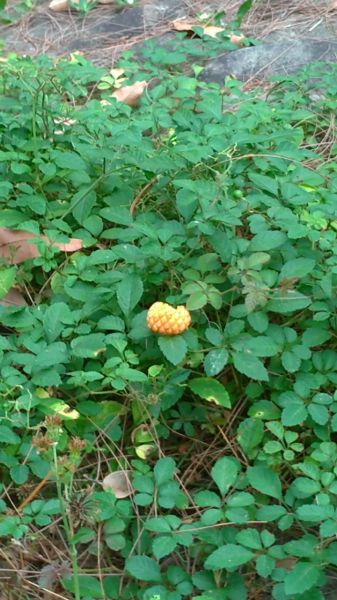eggs: (140, 294, 197, 342)
